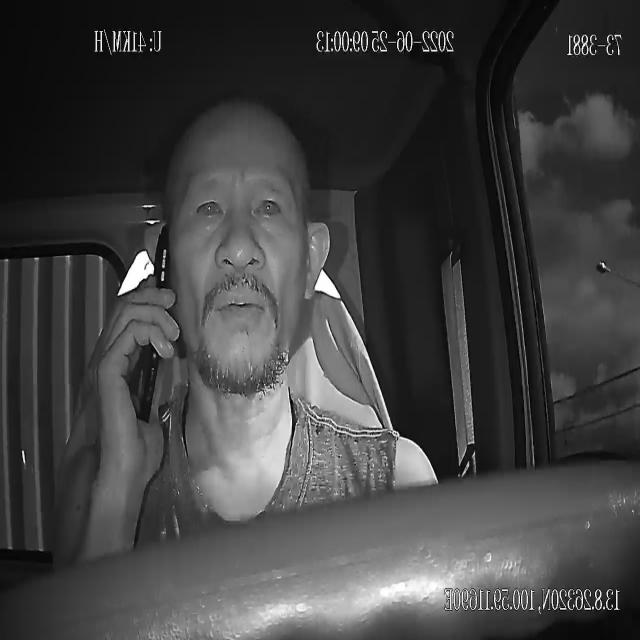phone: (138, 222, 170, 419)
